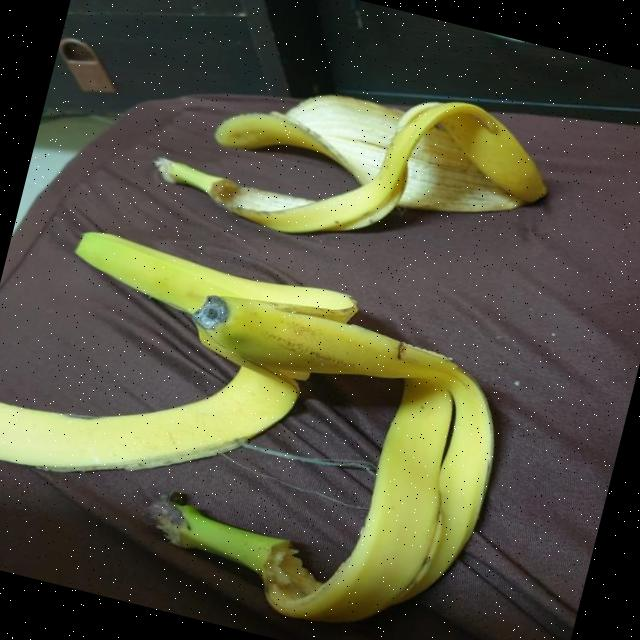banana-peel: (0, 209, 525, 640), (142, 30, 564, 292)
